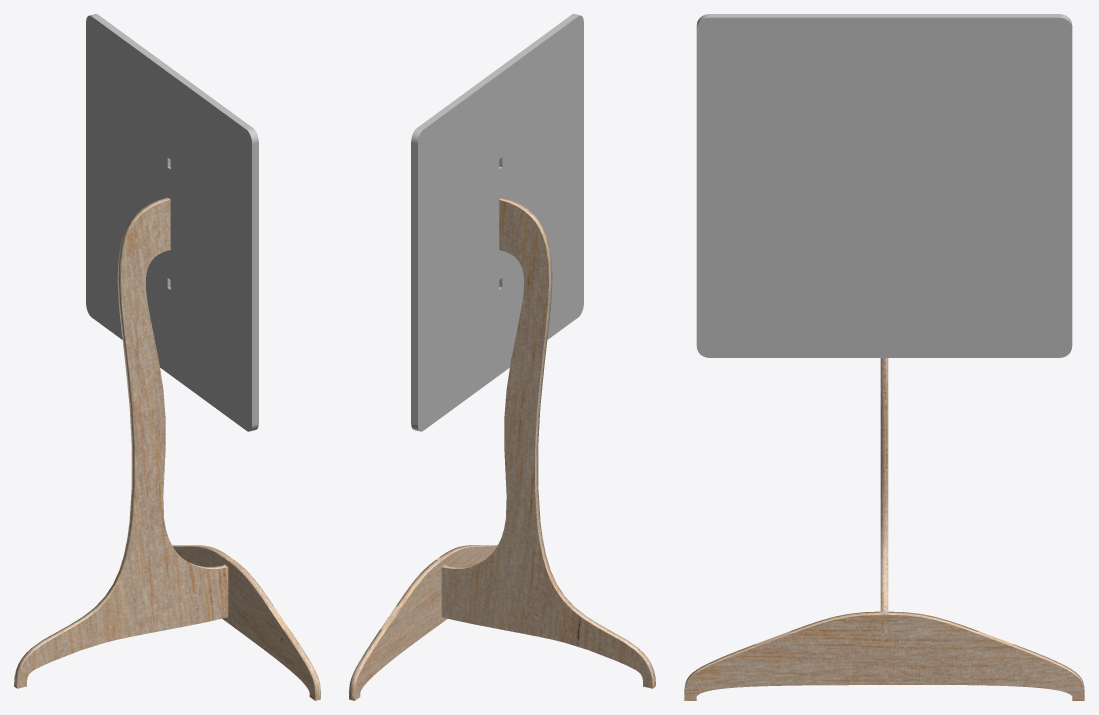
The model's file is 80zone_end.dae.
3 renders of one model, left to right at view 1: azimuth 30°, elevation 25°; view 2: azimuth 150°, elevation 25°; view 3: azimuth 270°, elevation 25°, orthographic. The views are drawn at different scales.
Parts seen in each view (by area): view 1: Body1_2_002, Body1, Body1_1; view 2: Body1_2_002, Body1, Body1_1; view 3: Body1_2_002, Body1_1, Body1.
Boxes of the visible parts, bbox=[...] form: Body1_2_002: bbox=[86, 14, 258, 431]; Body1: bbox=[14, 197, 228, 688]; Body1_1: bbox=[172, 545, 320, 700]; Body1_2_002: bbox=[411, 14, 583, 431]; Body1: bbox=[441, 197, 655, 688]; Body1_1: bbox=[349, 545, 497, 700]; Body1_2_002: bbox=[696, 14, 1072, 357]; Body1_1: bbox=[684, 611, 1084, 700]; Body1: bbox=[880, 358, 888, 678].
Size of the model in its own units: 113 by 160 by 288.
